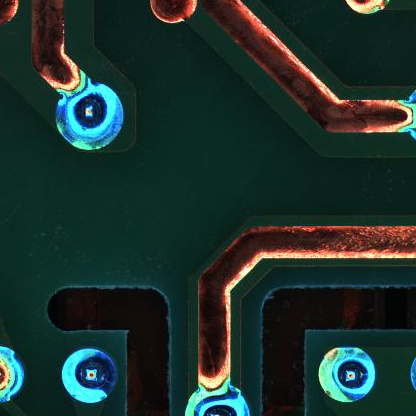spot: (55, 80, 124, 151), (59, 347, 117, 404), (317, 348, 376, 403)
